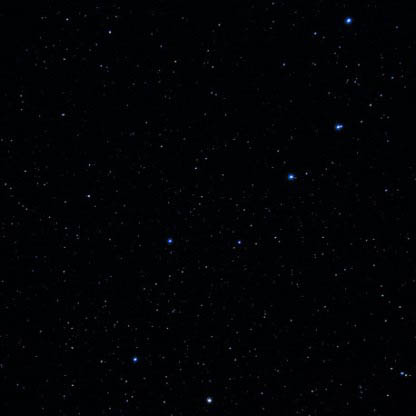Ursa Major: (281, 165, 305, 192), (327, 115, 349, 139), (197, 390, 222, 411), (339, 9, 359, 33), (167, 227, 182, 258), (233, 233, 257, 252), (128, 352, 148, 372)
